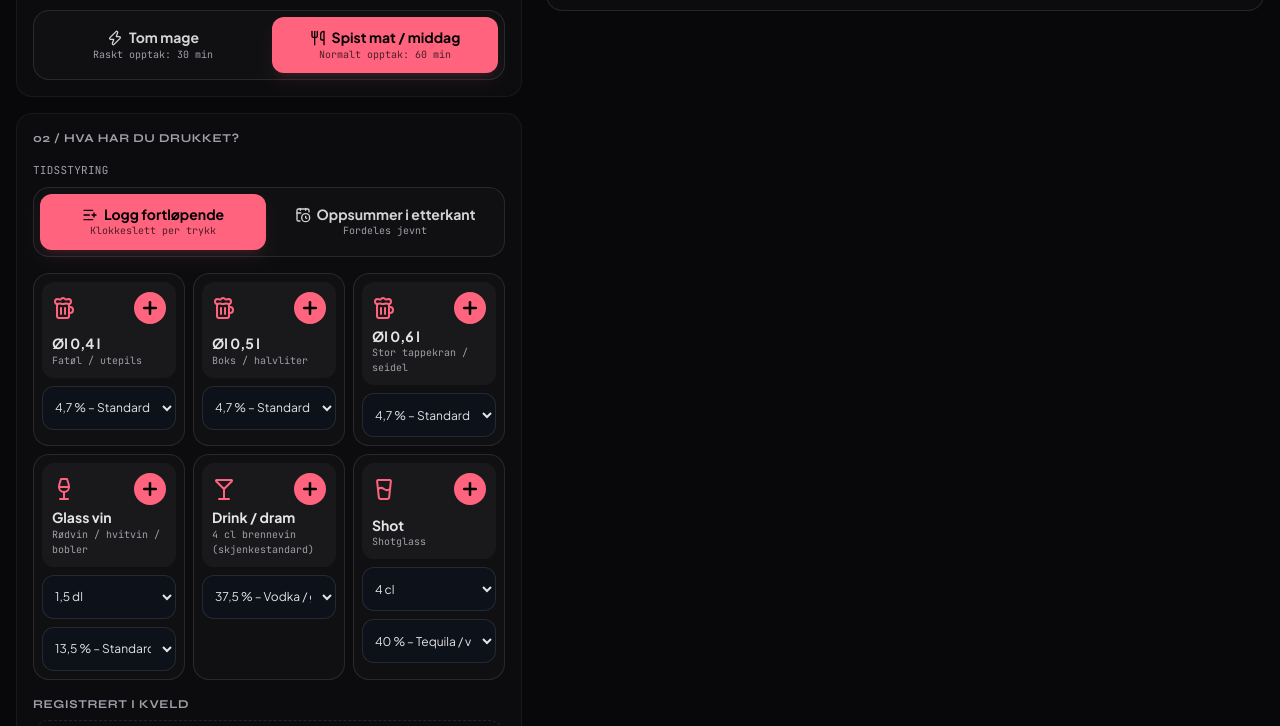
Drikketid og «Ferdig» › antar standard drikketid, og «Ferdig» setter den faktiske tiden
(page scrolled)
What coordinates should you click on to do the following:
click the button "Øl 0,5 l Boks / halvliter"
I would click on:
 (269, 330)
Its box is [202, 282, 336, 378].
Wait 1800000 ms
(page scrolled)
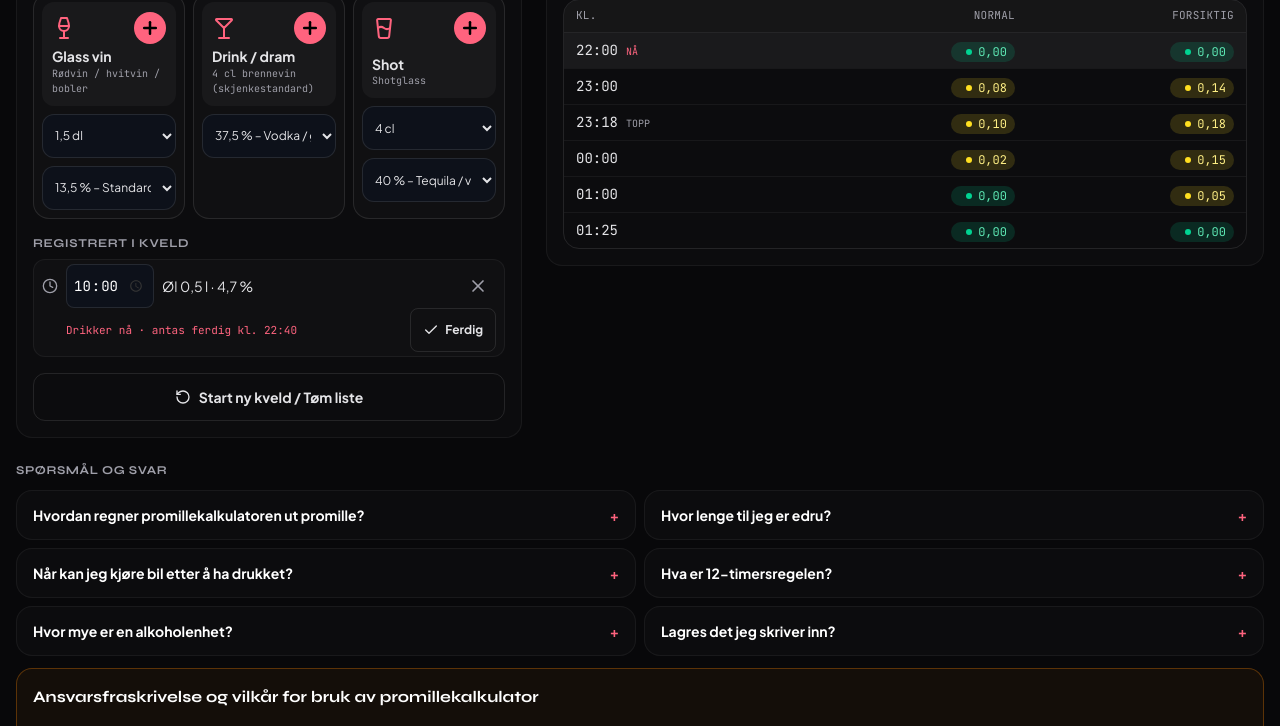
Now the text "Drikker nå · antas ferdig kl. 22:40" is shown, box [66, 322, 297, 338]
Now the button with aria-label "Ferdig med Øl 0,5 l" is shown
What coordinates should you click on to do the following:
click the button with aria-label "Ferdig med Øl 0,5 l"
I would click on:
 (453, 330)
Its box is [410, 308, 496, 352].
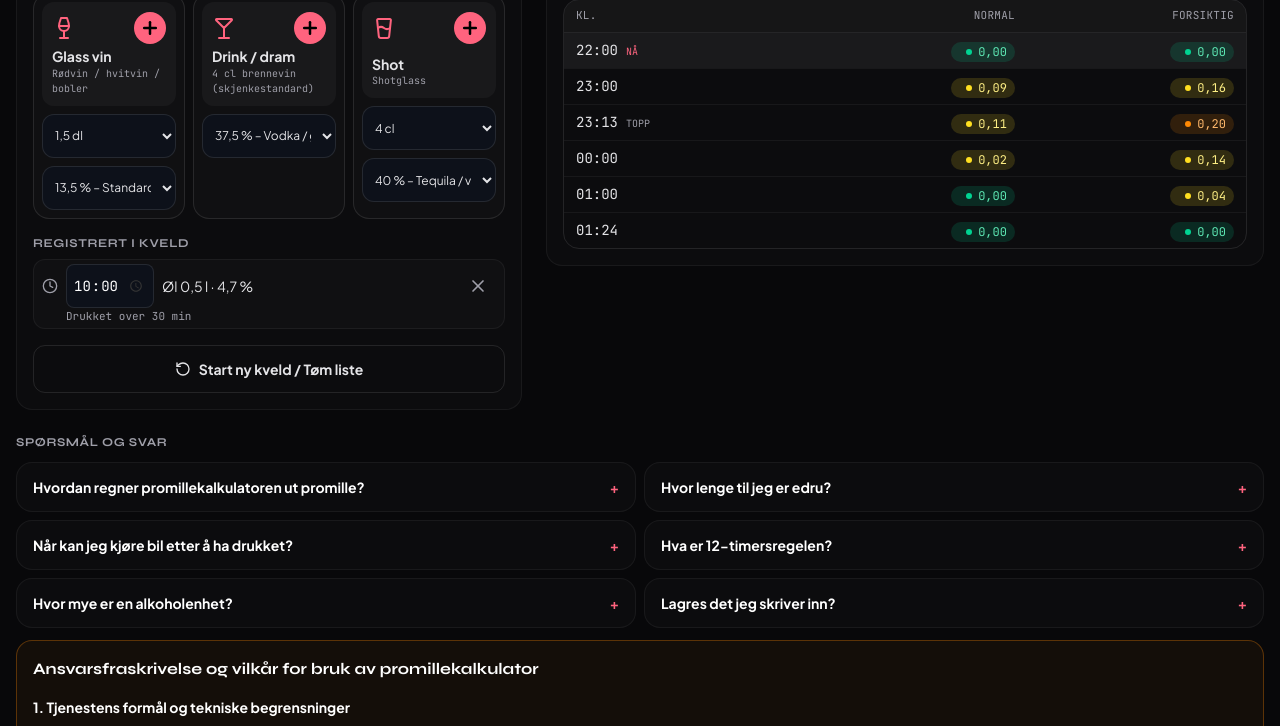
Now the text "Drukket over 30 min" is shown, box [66, 308, 191, 324]
